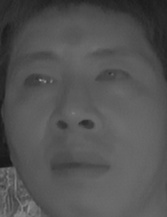eye: (93, 67, 132, 89), (21, 71, 58, 92)
mouth: (45, 148, 112, 186)
